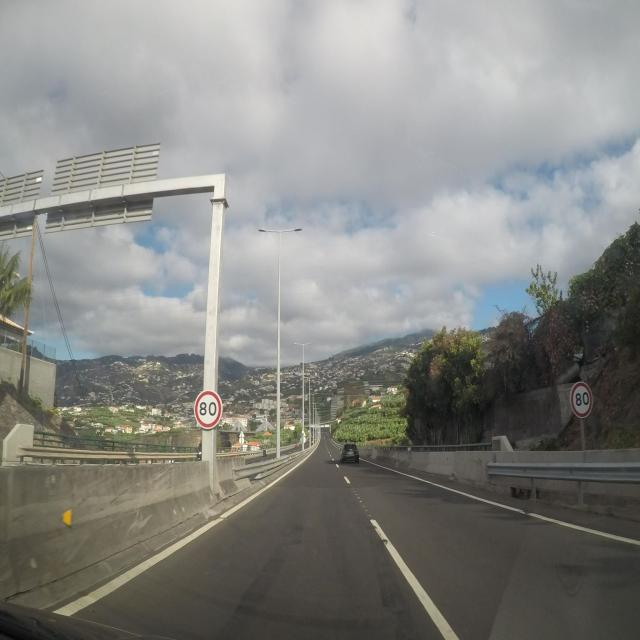car: (340, 442, 360, 463)
